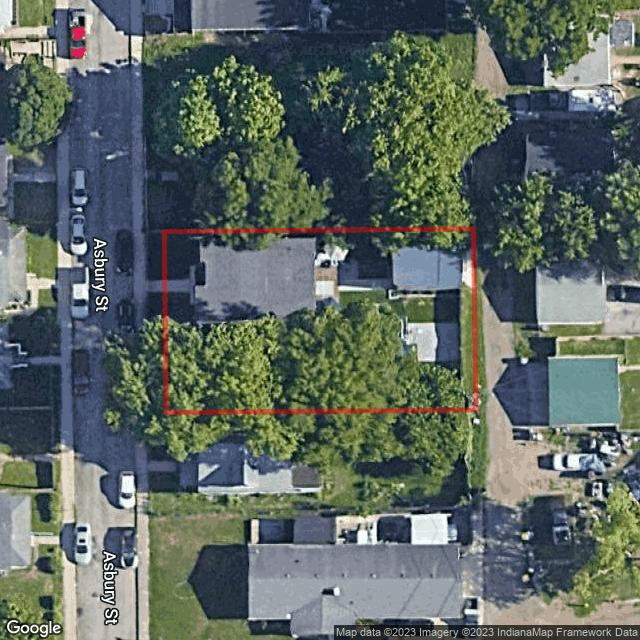Driveway: (167, 263, 205, 305)
Extra Driveway: (146, 281, 163, 293)
Extra Lawn: (146, 292, 164, 415), (146, 230, 162, 281)
House: (195, 238, 338, 325)
Other: (392, 248, 462, 291), (402, 323, 458, 364), (314, 245, 349, 303), (388, 289, 436, 299)
Sidewalk: (338, 262, 397, 291)
